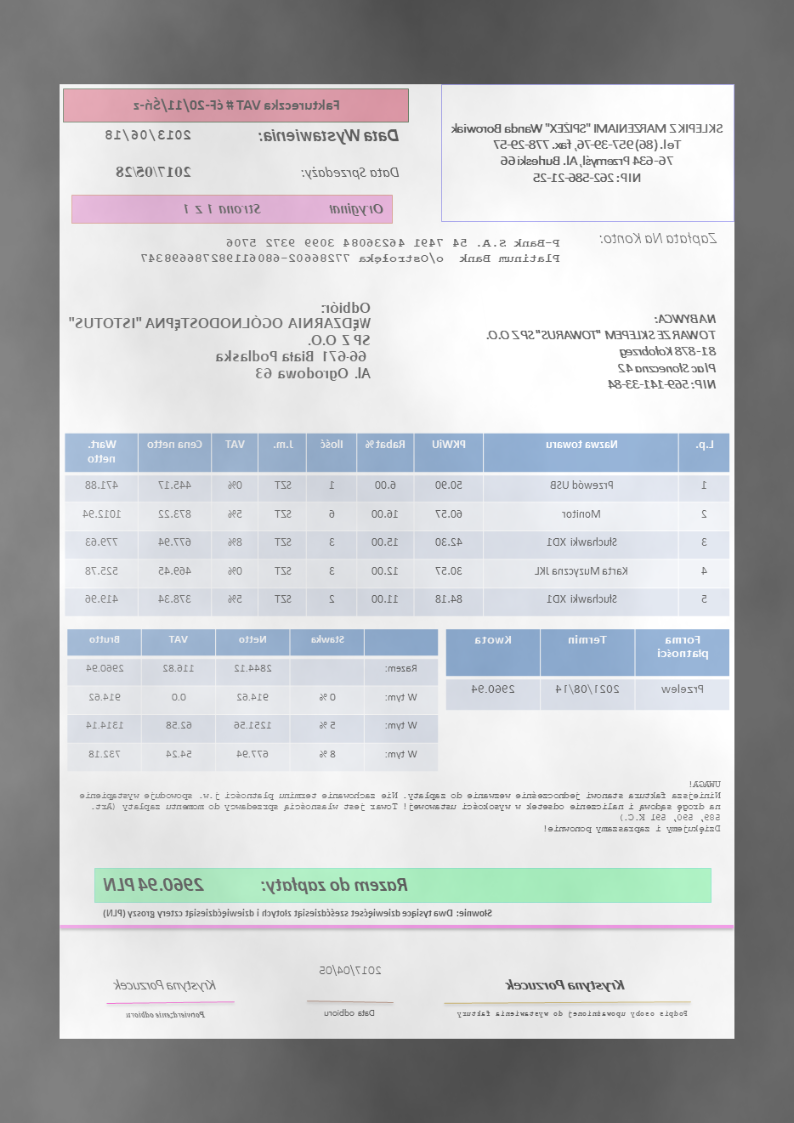Table: (63, 433, 731, 618), (65, 628, 440, 772), (445, 628, 732, 712)
TextBox: (77, 778, 724, 837), (66, 300, 372, 383), (482, 311, 720, 393), (450, 117, 726, 186), (137, 235, 563, 268), (101, 905, 495, 921), (101, 875, 411, 895), (131, 96, 342, 114), (456, 1006, 690, 1022), (179, 200, 383, 217), (256, 126, 400, 146), (597, 230, 720, 248), (503, 978, 626, 995), (111, 976, 218, 995), (300, 165, 401, 181), (104, 127, 193, 145), (317, 960, 384, 979), (116, 164, 192, 180), (123, 1009, 207, 1021), (321, 1006, 377, 1019)
